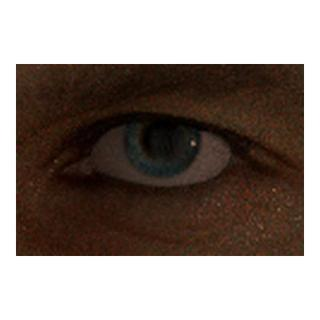pupil: (145, 121, 179, 155)
